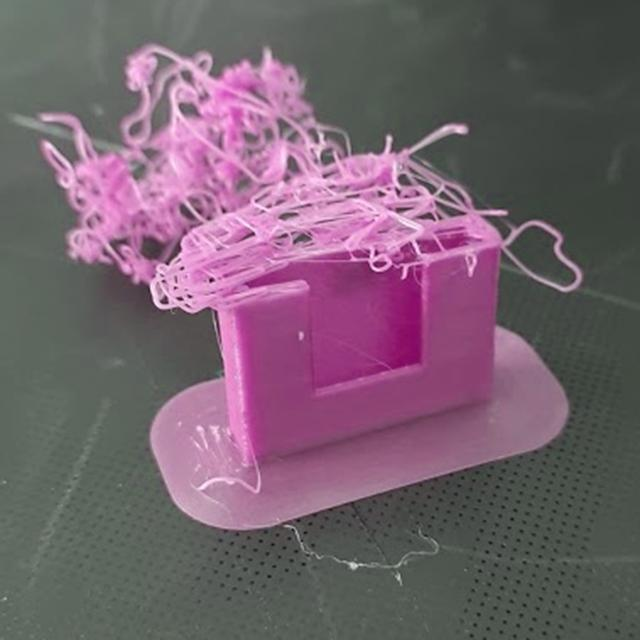Spaghetti: (6, 40, 352, 316), (350, 115, 586, 302)
